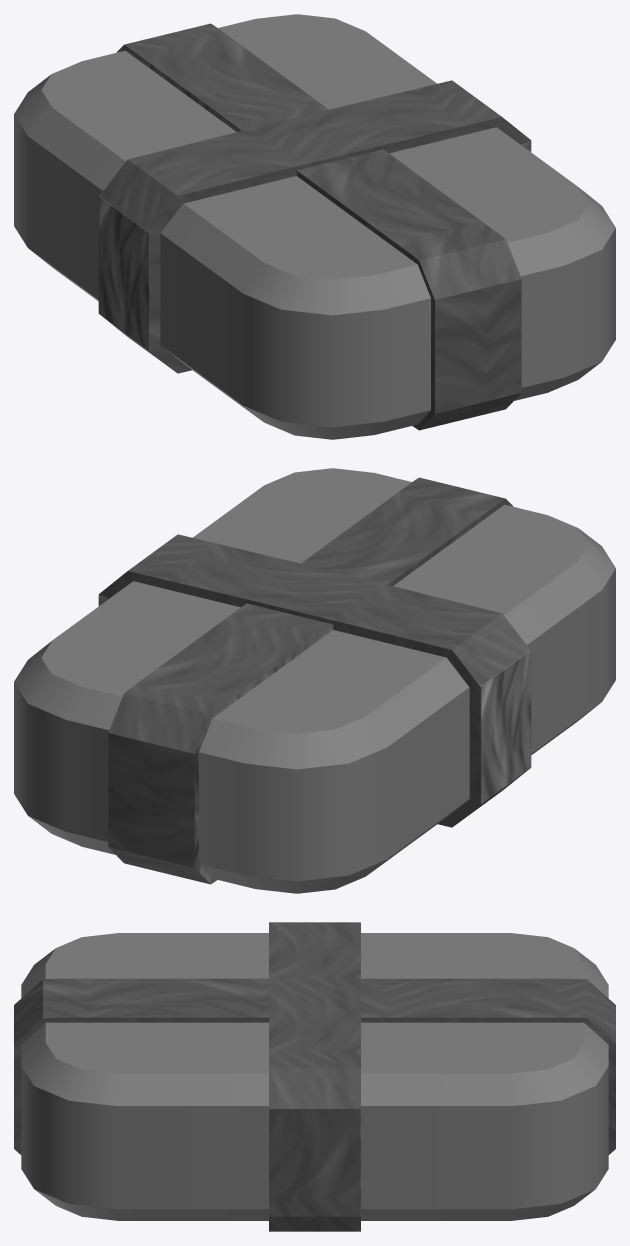
The model's file is SM_BlockDrug.fbx.
The picture shows the model from 3 angles, top to bottom: view 1: azimuth 30°, elevation 25°; view 2: azimuth 150°, elevation 25°; view 3: azimuth 270°, elevation 25°; orthographic projection. The views are drawn at different scales.
Parts seen in each view (by area): view 1: SM_BlockDrug; view 2: SM_BlockDrug; view 3: SM_BlockDrug.
Boxes of the visible parts, x1=… form: SM_BlockDrug: x1=14, y1=14, x2=615, y2=439; SM_BlockDrug: x1=14, y1=468, x2=615, y2=893; SM_BlockDrug: x1=14, y1=922, x2=615, y2=1231.
Size of the model in its own units: 14.08 by 6.29 by 20.83.
